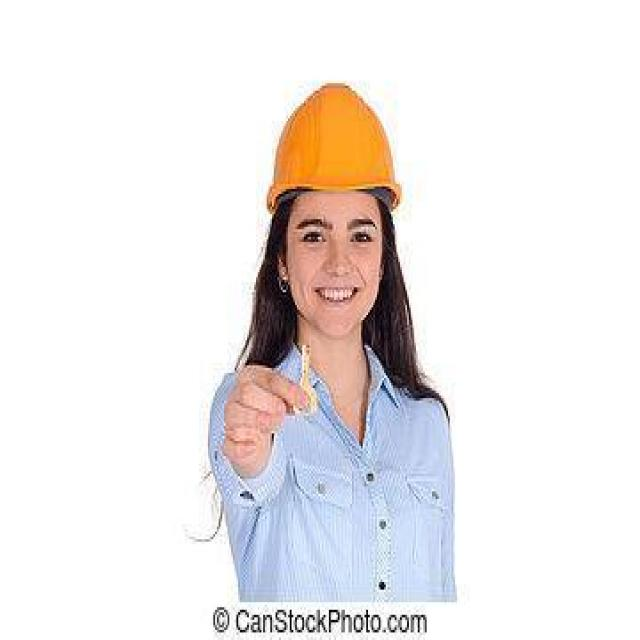hat: (265, 83, 404, 211)
